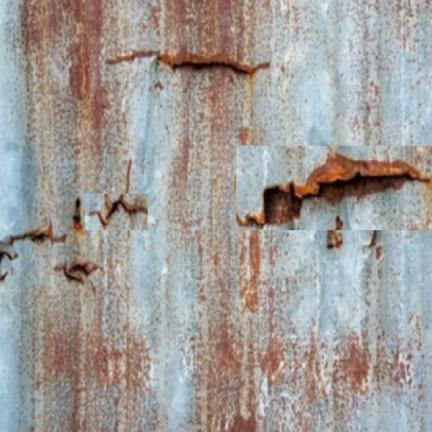karat: (0, 0, 431, 431), (290, 164, 421, 217), (292, 154, 429, 199), (105, 49, 269, 74), (89, 194, 147, 227), (5, 220, 66, 245), (264, 186, 301, 223), (54, 260, 101, 283), (73, 198, 82, 230)
